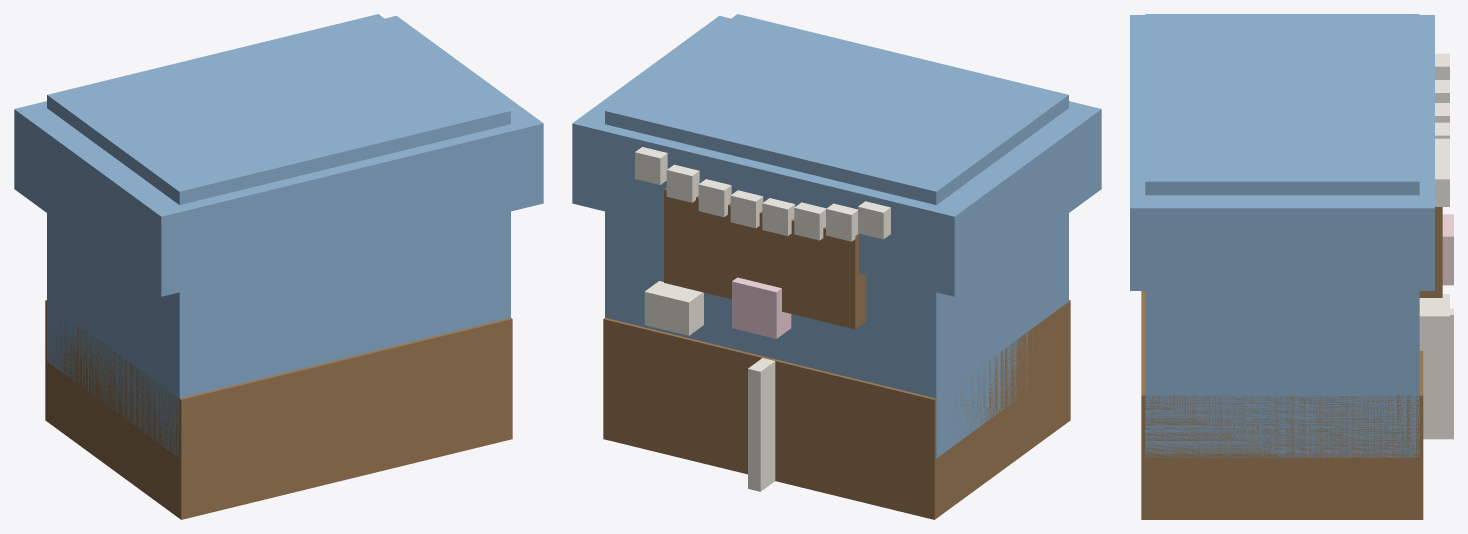
File: pirata_sereia_tronco.glb
3 views of the same model, side by side, from view 1: azimuth 30°, elevation 25°; view 2: azimuth 150°, elevation 25°; view 3: azimuth 270°, elevation 25° (orthographic). The views are drawn at different scales.
Parts seen in each view (by area): view 1: pirata_sereia_tronco; view 2: pirata_sereia_tronco; view 3: pirata_sereia_tronco.
Boxes of the visible parts, x1,y1,x2,y2 form: pirata_sereia_tronco: (14, 14, 543, 519); pirata_sereia_tronco: (572, 14, 1101, 519); pirata_sereia_tronco: (1130, 14, 1453, 519).
Size of the model in its own units: 0.6 by 0.49 by 0.425.
